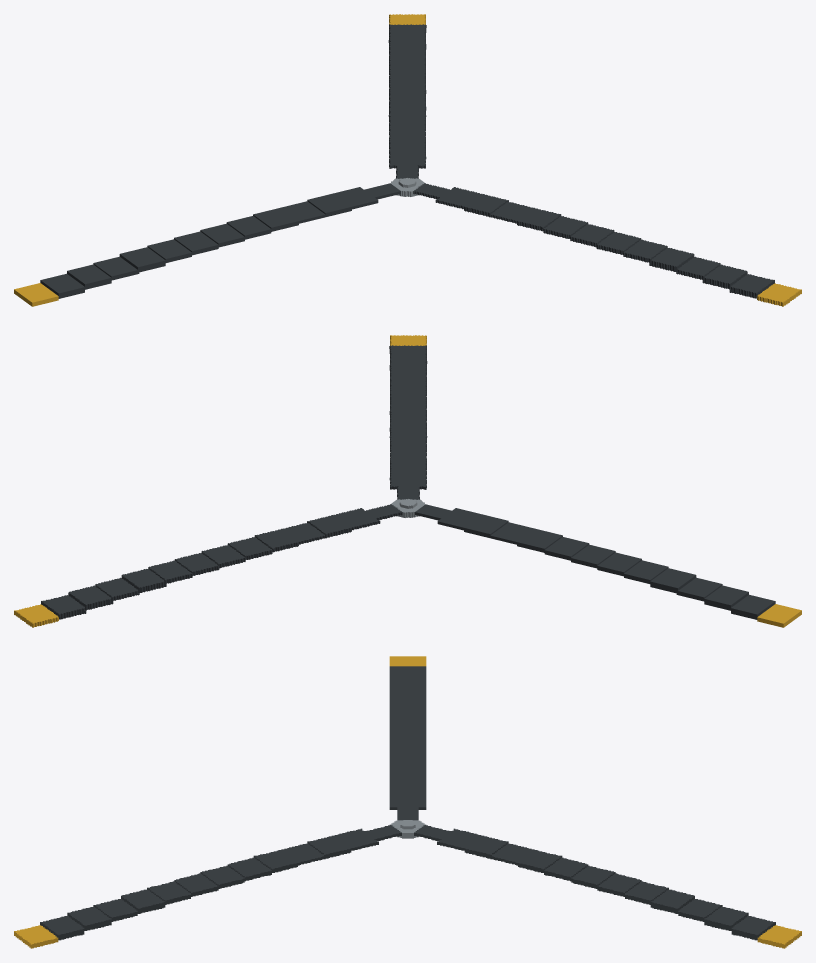
The model's file is heavy_cargo_helicopter_rear_rotor.glb.
The picture shows the model from 3 angles, top to bottom: view 1: azimuth 30°, elevation 25°; view 2: azimuth 150°, elevation 25°; view 3: azimuth 270°, elevation 25°; orthographic projection.
Visible parts, largest first — view 1: body:compound; view 2: body:compound; view 3: body:compound.
Boxes of the visible parts, box(x1,y1,x2,y2) form: body:compound: box(14, 14, 801, 306); body:compound: box(14, 335, 801, 627); body:compound: box(14, 656, 801, 948).
Size of the model in its own units: 13.97 by 0.5625 by 16.12.
